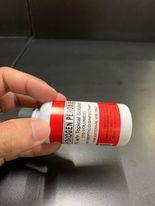-Bottle-: (17, 101, 133, 146)
